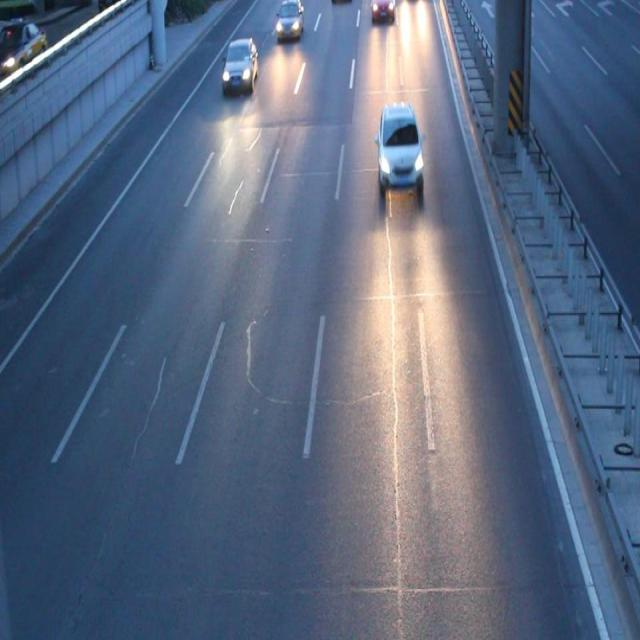car: (374, 102, 423, 192), (222, 40, 258, 94), (274, 1, 303, 40)
